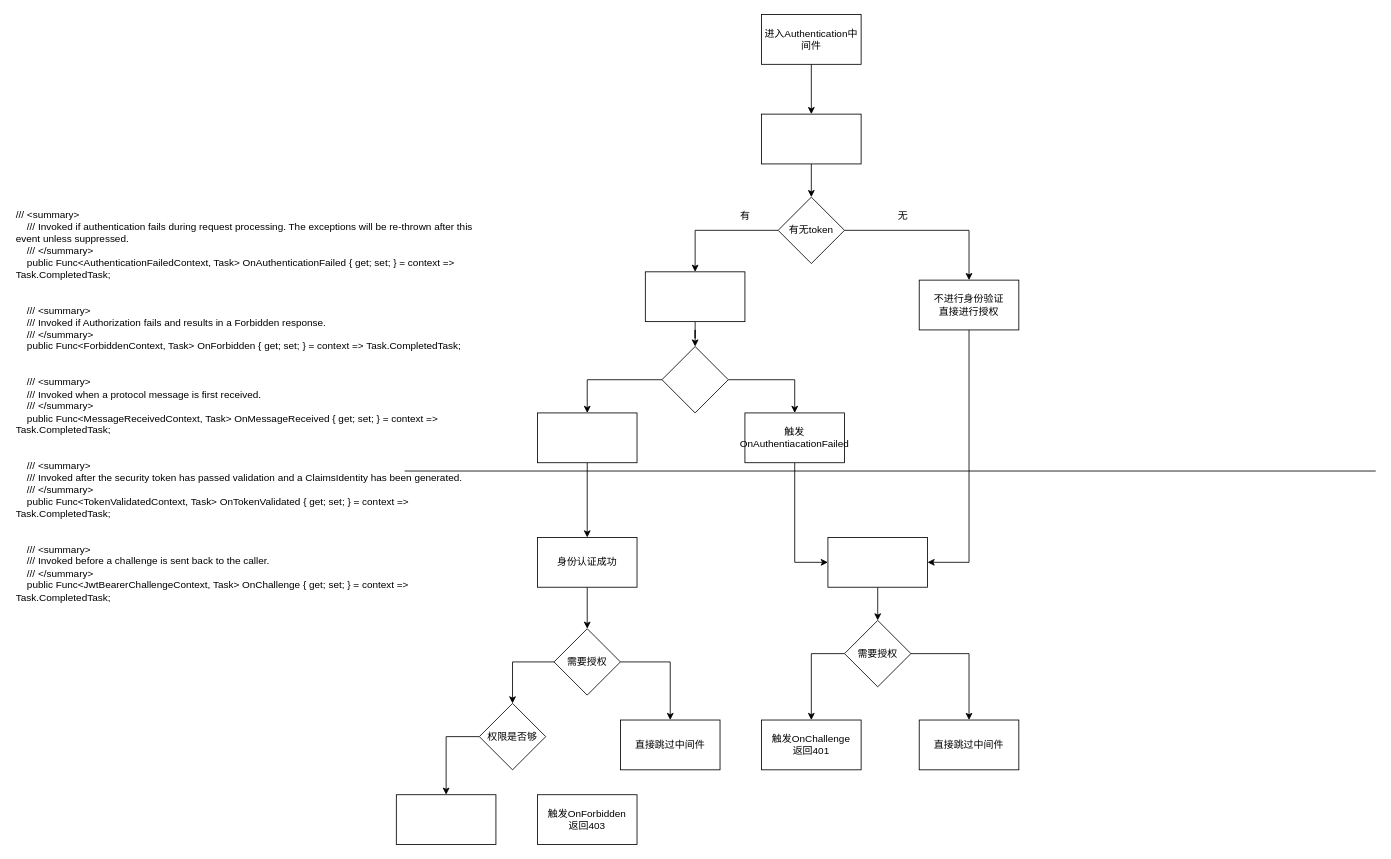
Image size: 1391x859. Some labels were removed from this diagram. The centre of each missing label's shape, as x and y in pixels:
"OnMessageRecevied" goes at point (811, 138).
"结束中间件" goes at point (445, 819).
"触发 OnTokenValidated" goes at point (587, 437).
"身份没有认证或者失败" goes at point (877, 562).
"进行身份验证" goes at point (694, 296).
"验证成功" goes at point (694, 379).
